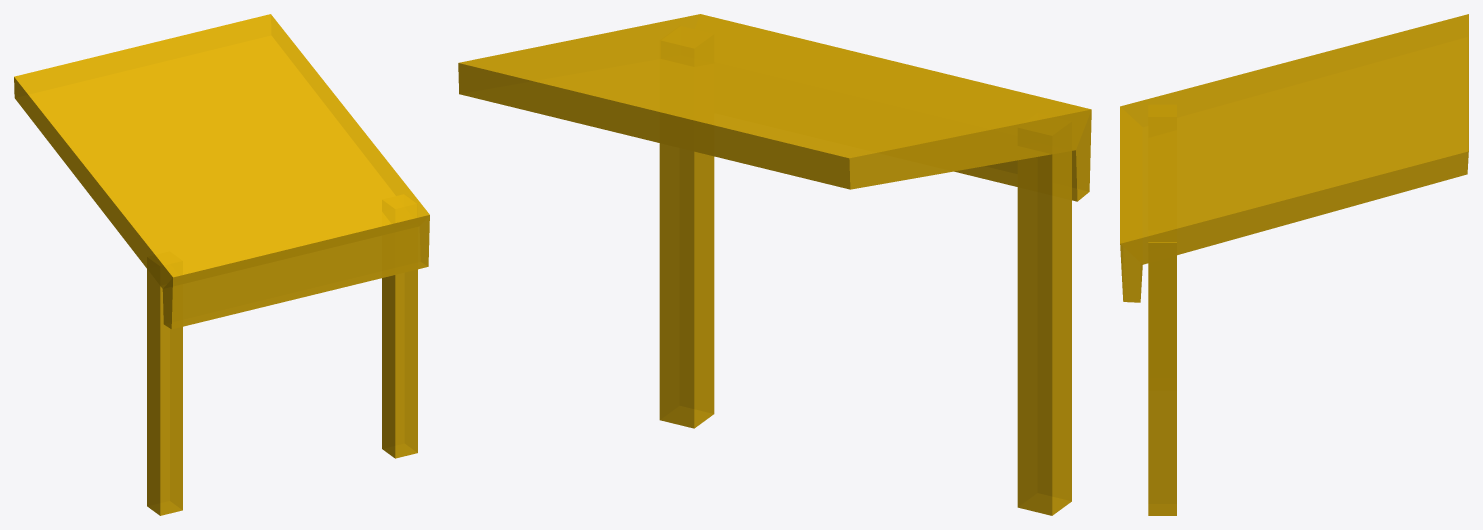
Rendered from SM_Bld_Canopy_01_Collision.fbx.
3 renders of one model, left to right at view 1: azimuth 30°, elevation 25°; view 2: azimuth 150°, elevation 25°; view 3: azimuth 270°, elevation 25°, orthographic. The views are drawn at different scales.
Parts seen in each view (by area): view 1: SM_Bld_Canopy_01_Collision; view 2: SM_Bld_Canopy_01_Collision; view 3: SM_Bld_Canopy_01_Collision.
Boxes of the visible parts, box(x1,y1,x2,y2) form: SM_Bld_Canopy_01_Collision: box(14, 14, 429, 515); SM_Bld_Canopy_01_Collision: box(458, 14, 1091, 515); SM_Bld_Canopy_01_Collision: box(1120, 14, 1468, 515).
Size of the model in its own units: 266 by 328 by 285.
